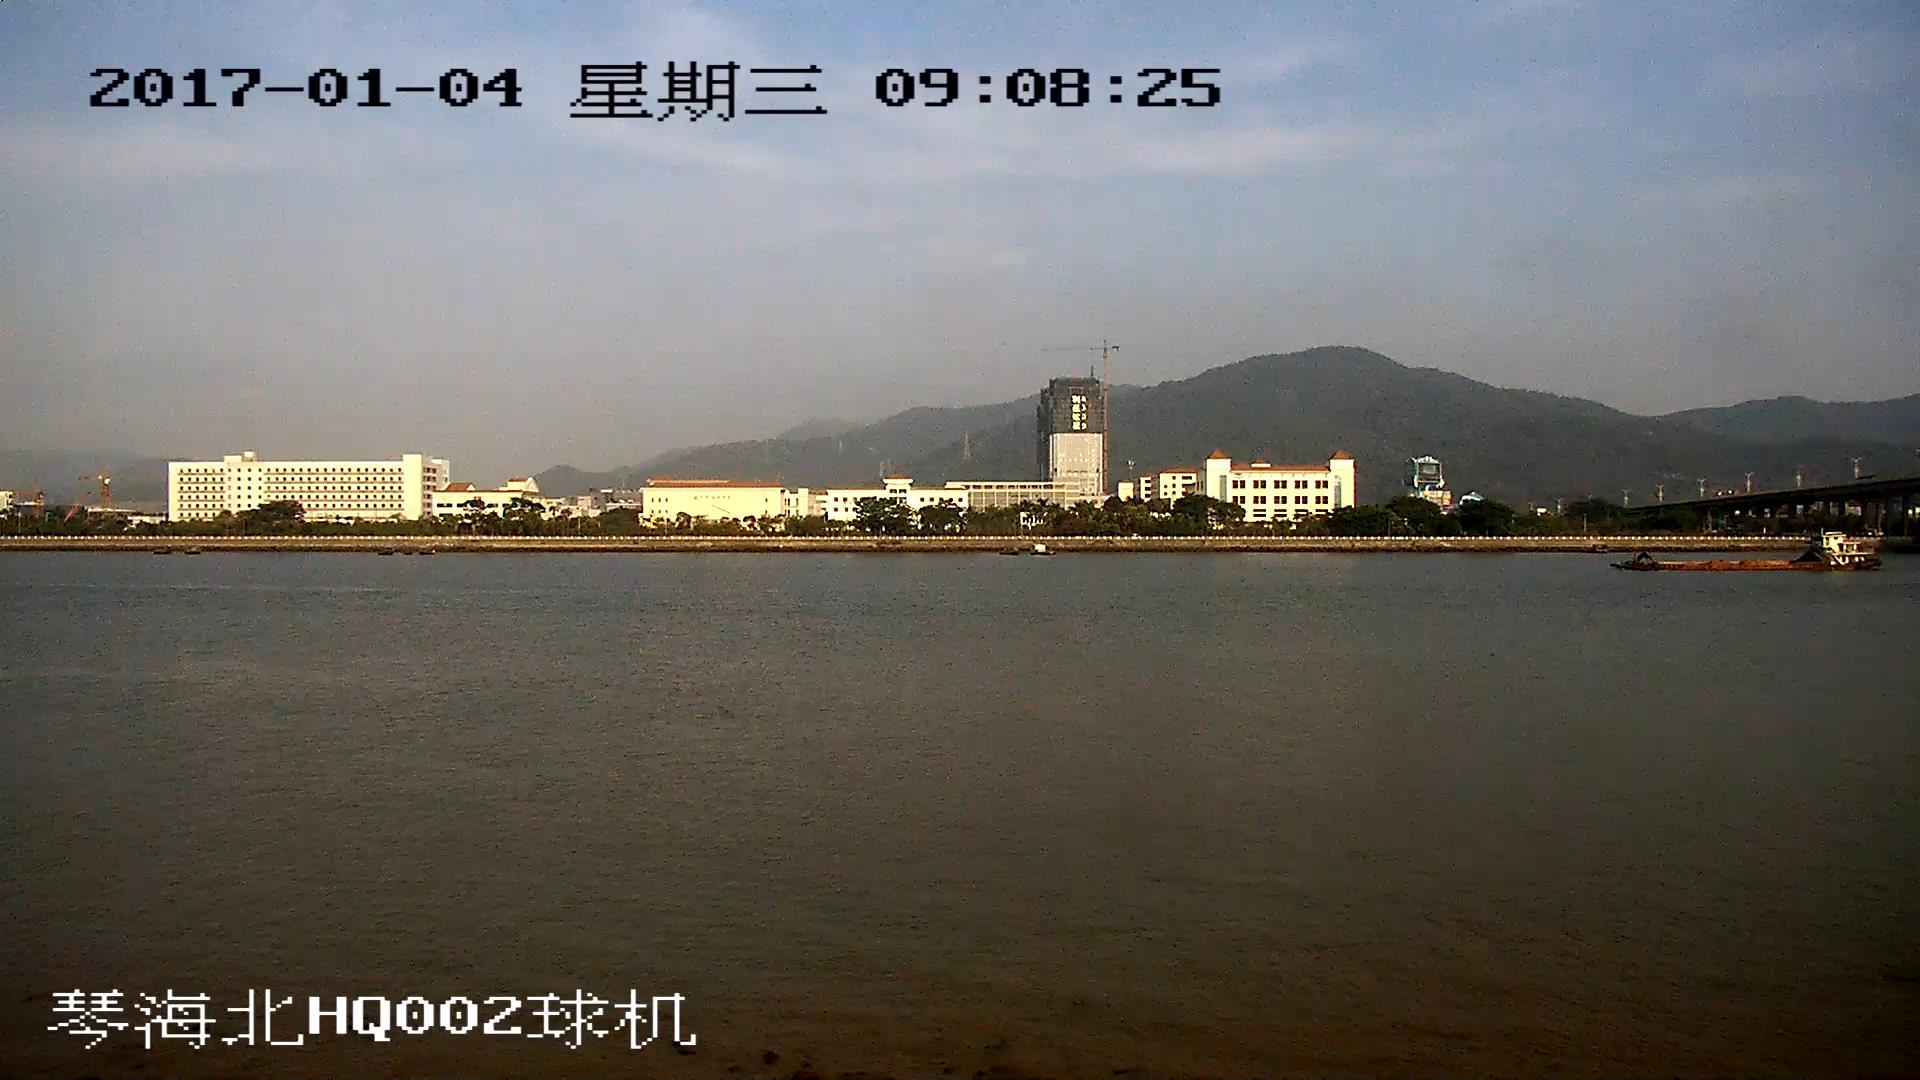Ship: (1622, 531, 1874, 574)
